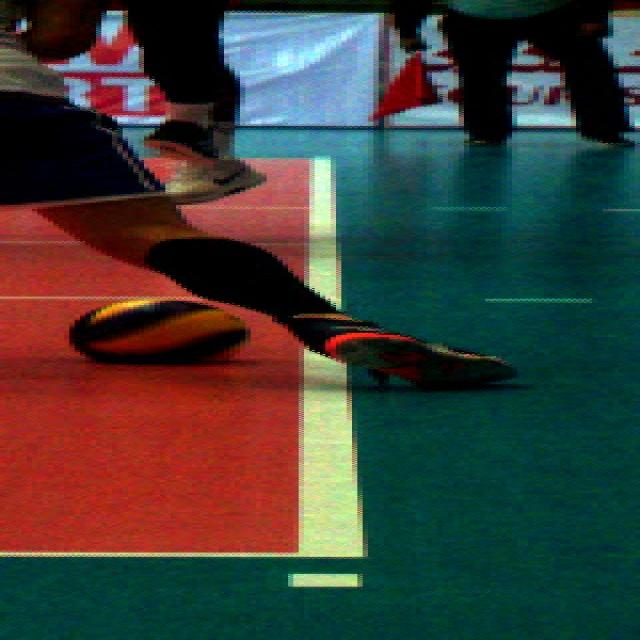Volleyball: (70, 299, 250, 368)
